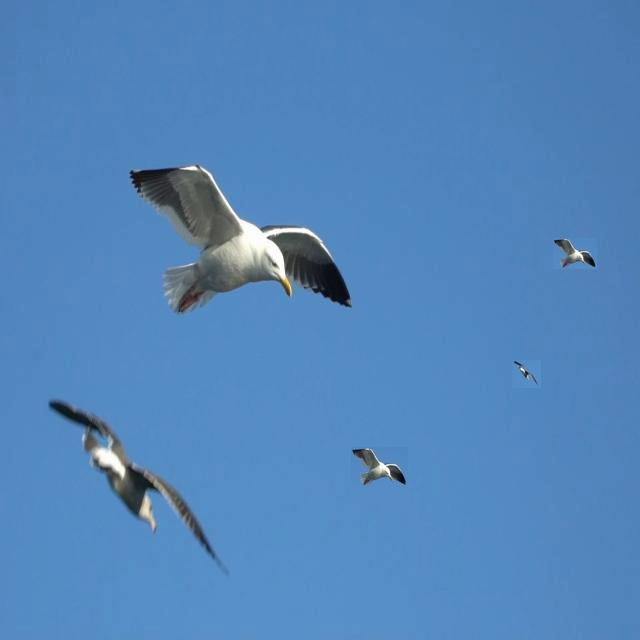bird: (130, 164, 354, 314), (46, 400, 231, 577), (353, 449, 407, 487), (550, 236, 599, 272), (510, 357, 542, 390)
